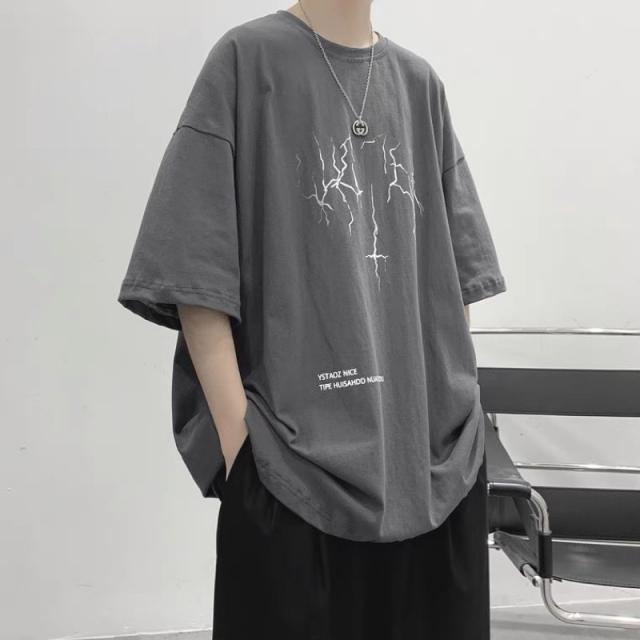Shirt: (109, 6, 516, 538)
